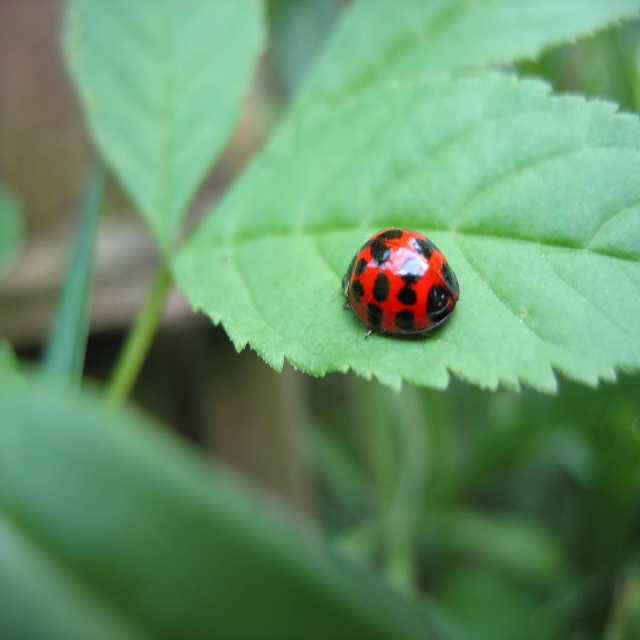Ladybug: (330, 227, 460, 340)
